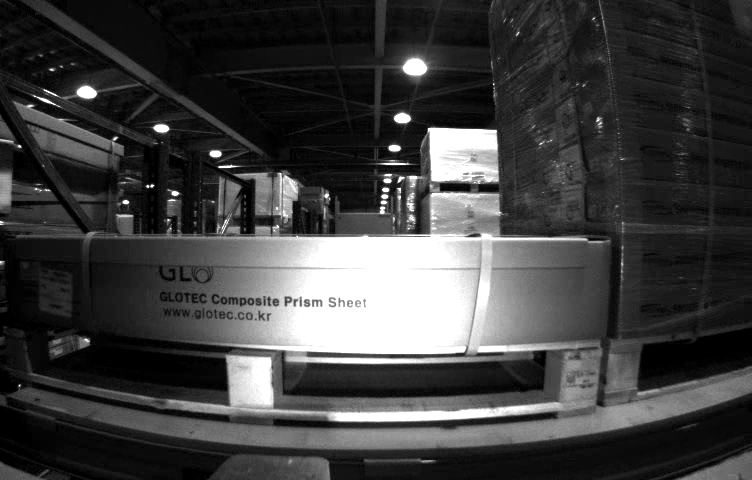True Barcode: (35, 270, 71, 324)
